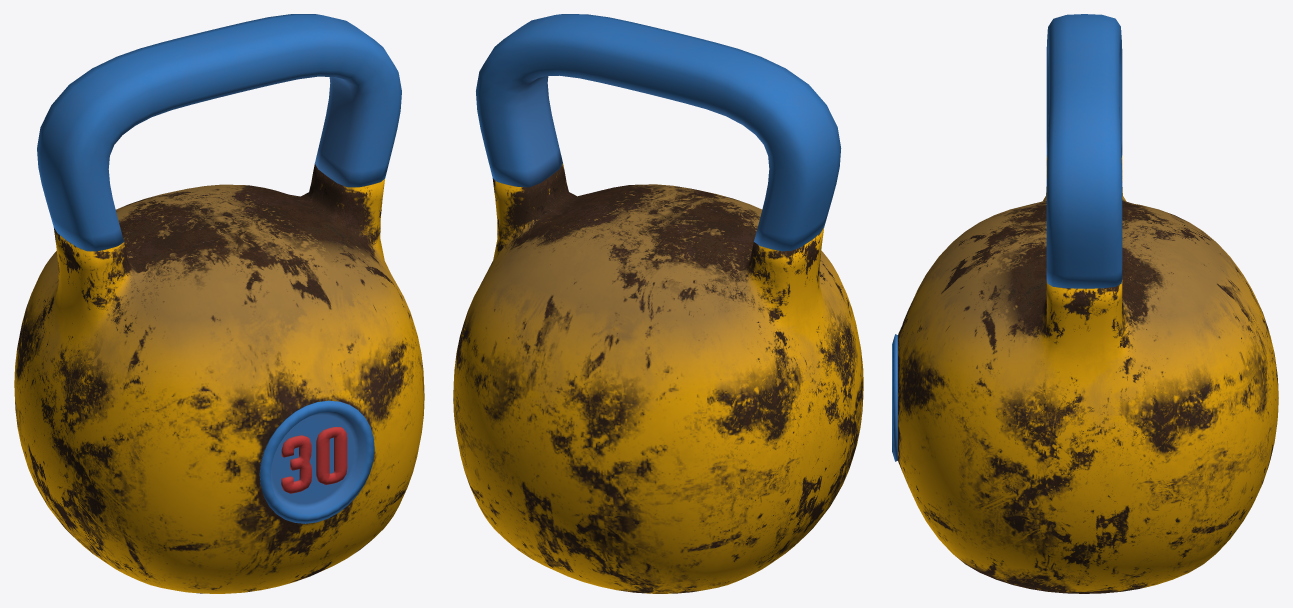
Rendered from kettelebell.gltf.
3 views of the same model, side by side, from view 1: azimuth 30°, elevation 25°; view 2: azimuth 150°, elevation 25°; view 3: azimuth 270°, elevation 25° (orthographic). The views are drawn at different scales.
Visible parts, largest first — view 1: jelly_base_lp, metal_handle_lp, l_metal_number_lp; view 2: jelly_base_lp, metal_handle_lp; view 3: jelly_base_lp, metal_handle_lp.
Boxes of the visible parts, bbox=[...] form: jelly_base_lp: bbox=[14, 163, 424, 593]; metal_handle_lp: bbox=[37, 14, 401, 523]; l_metal_number_lp: bbox=[281, 427, 347, 493]; jelly_base_lp: bbox=[453, 163, 863, 593]; metal_handle_lp: bbox=[476, 14, 841, 251]; jelly_base_lp: bbox=[898, 155, 1278, 593]; metal_handle_lp: bbox=[892, 14, 1122, 461].
Size of the model in its own units: 0.2999 by 0.4251 by 0.2983.
Materials: 3 (3 with a texture image).
